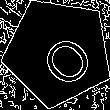O_NW: (24, 18, 92, 86)
